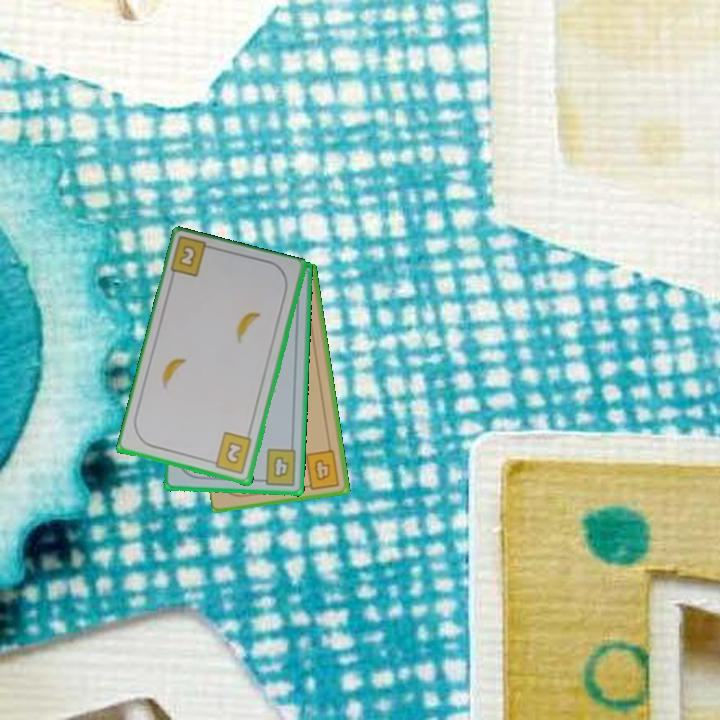2b: (206, 429, 255, 477), (167, 235, 219, 280)
4b: (255, 445, 300, 488), (300, 446, 342, 492)
